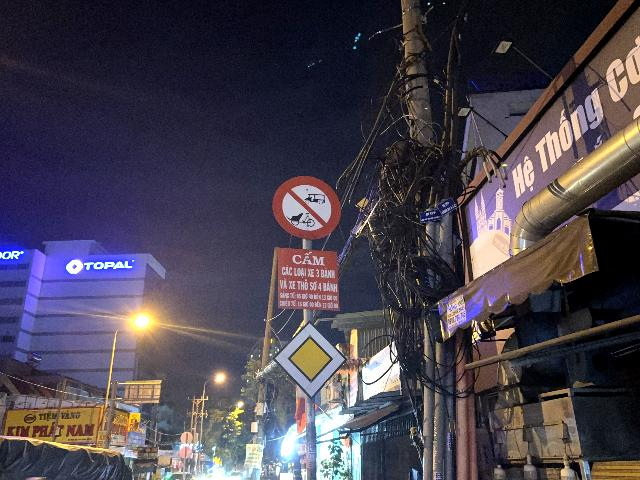bat-dau-duong-uu-tien: (273, 321, 347, 401)
cam-xe-3-banh-xe-tho-so-4-banh: (272, 175, 342, 240)
